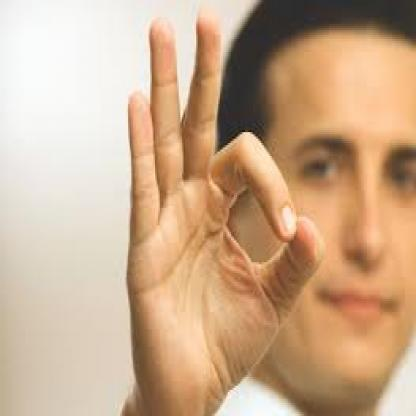ok: (122, 3, 326, 414)
